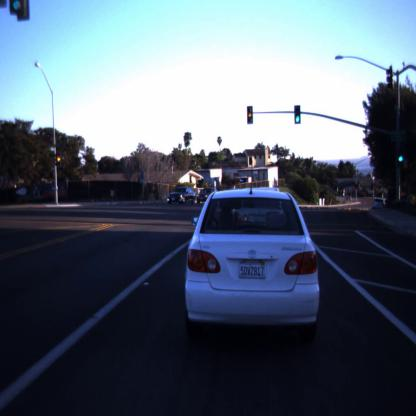trafficlight: (396, 142, 404, 167), (294, 104, 301, 125), (246, 106, 254, 124)
